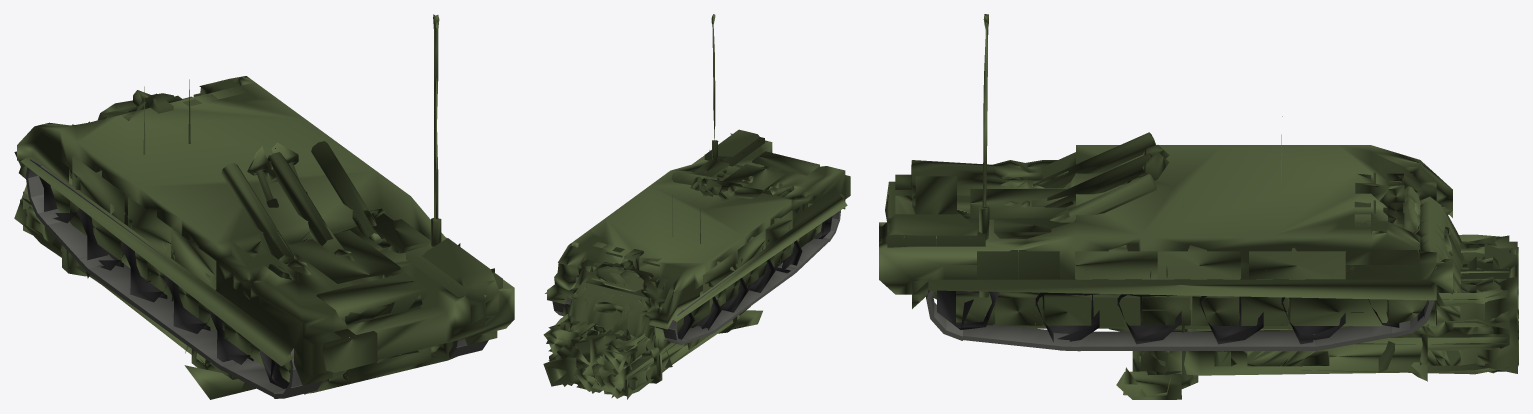
Rendered from bukm3_lo.glb.
The picture shows the model from 3 angles, left to right: view 1: azimuth 30°, elevation 25°; view 2: azimuth 150°, elevation 25°; view 3: azimuth 270°, elevation 25°; orthographic projection. The views are drawn at different scales.
Parts seen in each view (by area): view 1: body|Material.001#camo, turret|Material.001#camo, body|default#track (×2), body|Material.001#rubber, cradle|Material.001#camo; view 2: body|Material.001#camo, turret|Material.001#camo, cradle|Material.001#camo, body|default#track, body|Material.001#rubber; view 3: body|Material.001#camo, turret|Material.001#camo, cradle|Material.001#camo, body|default#track, body|Material.001#rubber.
Boxes of the visible parts, left/top/right/bottom form: body|Material.001#camo: left=17, top=76, right=514, bottom=385; turret|Material.001#camo: left=50, top=14, right=457, bottom=394; body|default#track (×2): left=25, top=159, right=488, bottom=398; body|Material.001#rubber: left=39, top=176, right=289, bottom=388; cradle|Material.001#camo: left=14, top=124, right=255, bottom=399; body|Material.001#camo: left=545, top=129, right=850, bottom=329; turret|Material.001#camo: left=563, top=14, right=822, bottom=359; cradle|Material.001#camo: left=543, top=306, right=762, bottom=399; body|default#track: left=656, top=210, right=840, bottom=344; body|Material.001#rubber: left=577, top=216, right=832, bottom=339; body|Material.001#camo: left=879, top=145, right=1452, bottom=308; turret|Material.001#camo: left=933, top=14, right=1464, bottom=336; cradle|Material.001#camo: left=1116, top=234, right=1518, bottom=399; body|default#track: left=926, top=279, right=1433, bottom=351; body|Material.001#rubber: left=937, top=189, right=1425, bottom=344.
Size of the model in its own units: 3.67 by 6.47 by 9.75.
